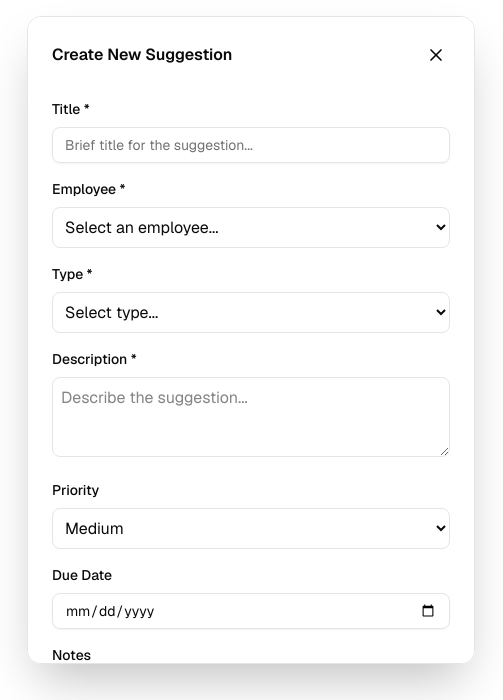
Scenario: SuggestionModal › Error Handling › shows submit error when creation fails
The image size is (503, 700).
Type "Test Title" into the field with placeholder "Brief title for the suggestion..." at x=251, y=145, box [52, 127, 450, 163]
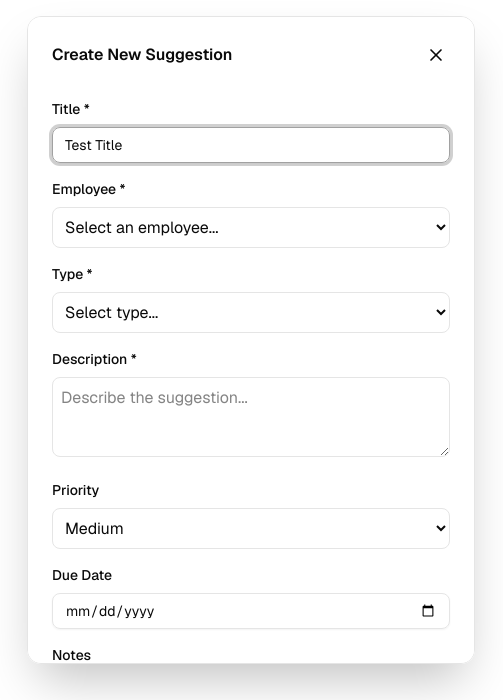
Select "John Doe - Engineering" in the dropdown showing "Select an employee..." below "Employee *" at x=251, y=228, box [52, 207, 450, 248]
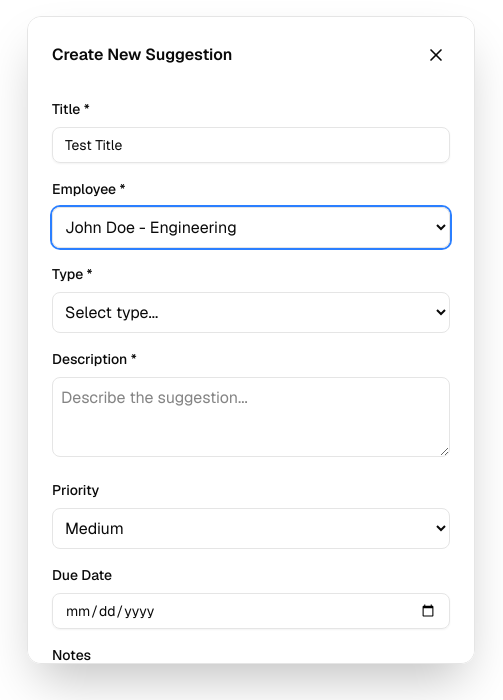
Select "Equipment" in the dropdown showing "Select type..." below "Type *" at x=251, y=312, box [52, 292, 450, 333]
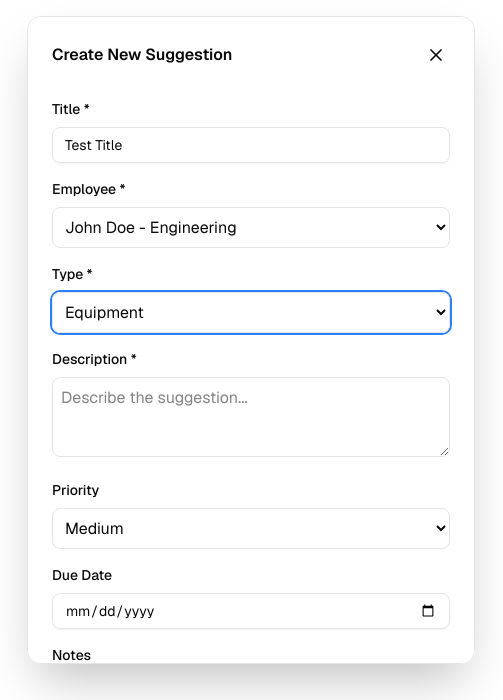
Type "Test description" into the text box with placeholder "Describe the suggestion..." at x=251, y=417, box [52, 377, 450, 457]
(page scrolled)
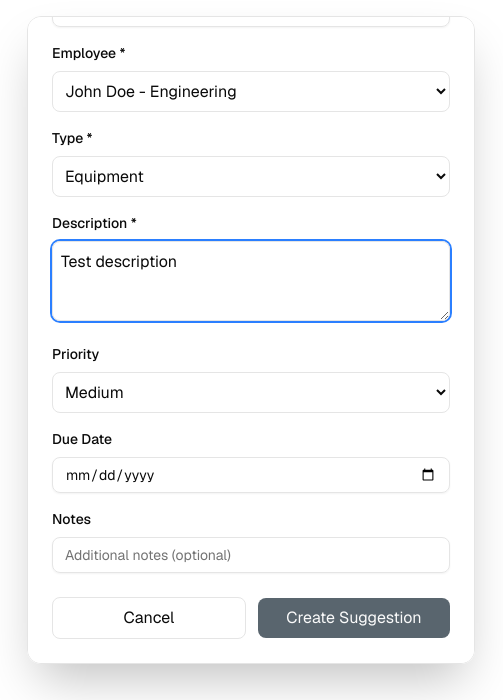
Click the button "Create Suggestion" at x=354, y=618, box [258, 598, 450, 638]
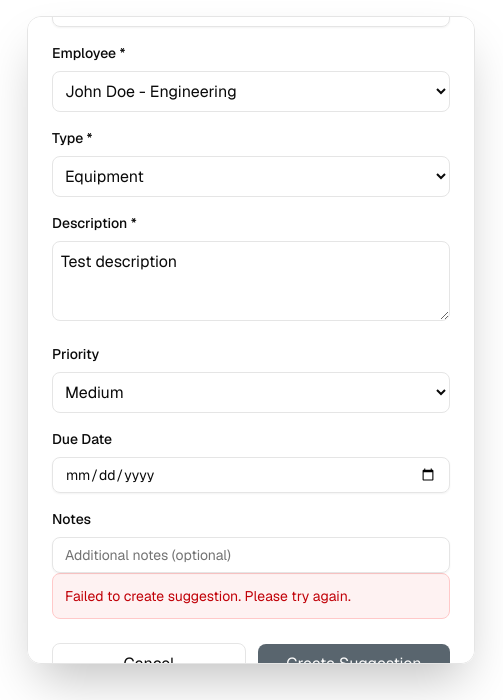
Expected: the text "Failed to create suggestion. Please try again." is shown, [65, 587, 351, 605]
